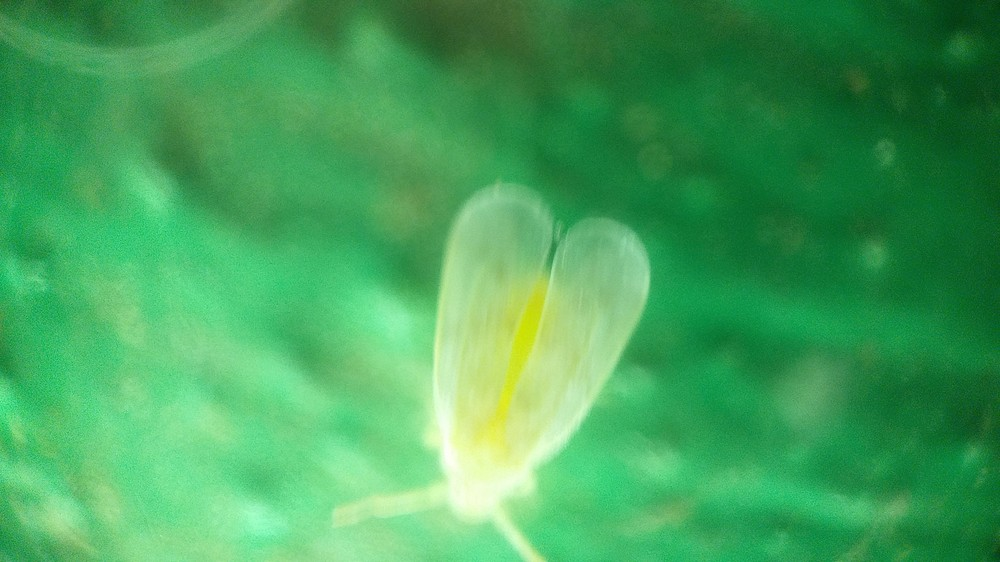Mosca Blanca: (328, 176, 671, 562)
